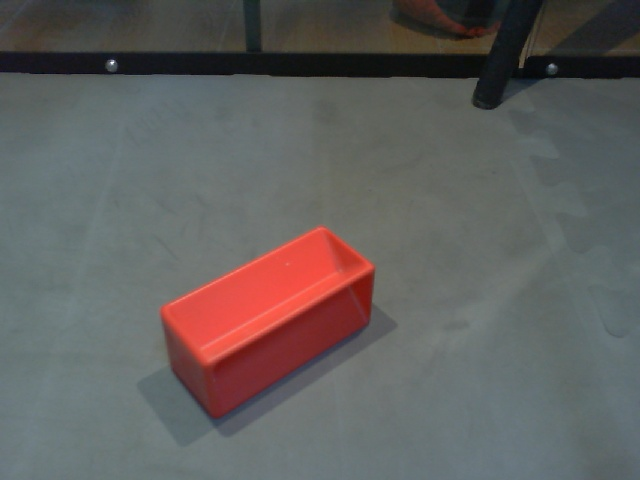RedSample: (158, 224, 376, 420)
